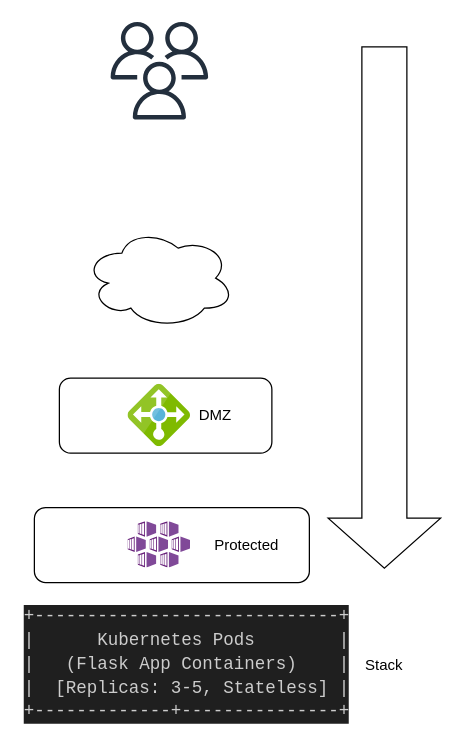
The diagram is 463 pixels wide and 745 high, and some of its shapes have lost their labels. Each missing label, with the centre of its shape:
"Data" belongs at point 384,307.
"Internet" belongs at point 158,277.
